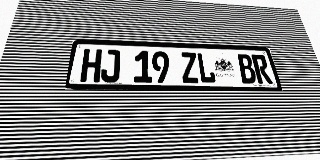1: (134, 50, 152, 83)
9: (152, 51, 170, 83)
B: (236, 54, 258, 84)
H: (80, 49, 102, 82)
J: (100, 49, 120, 82)
L: (196, 53, 216, 83)
R: (251, 54, 273, 84)
Z: (180, 52, 200, 83)
